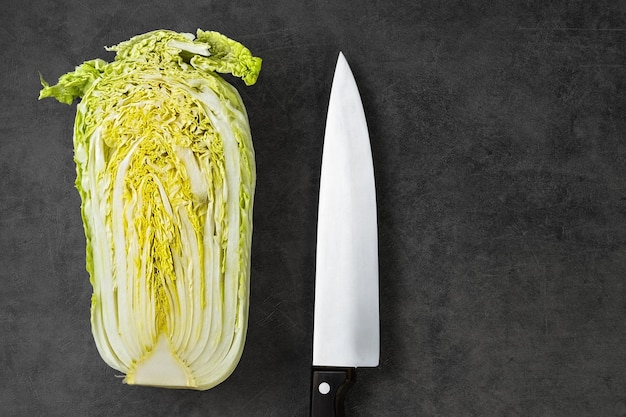knife: (311, 51, 386, 417)
